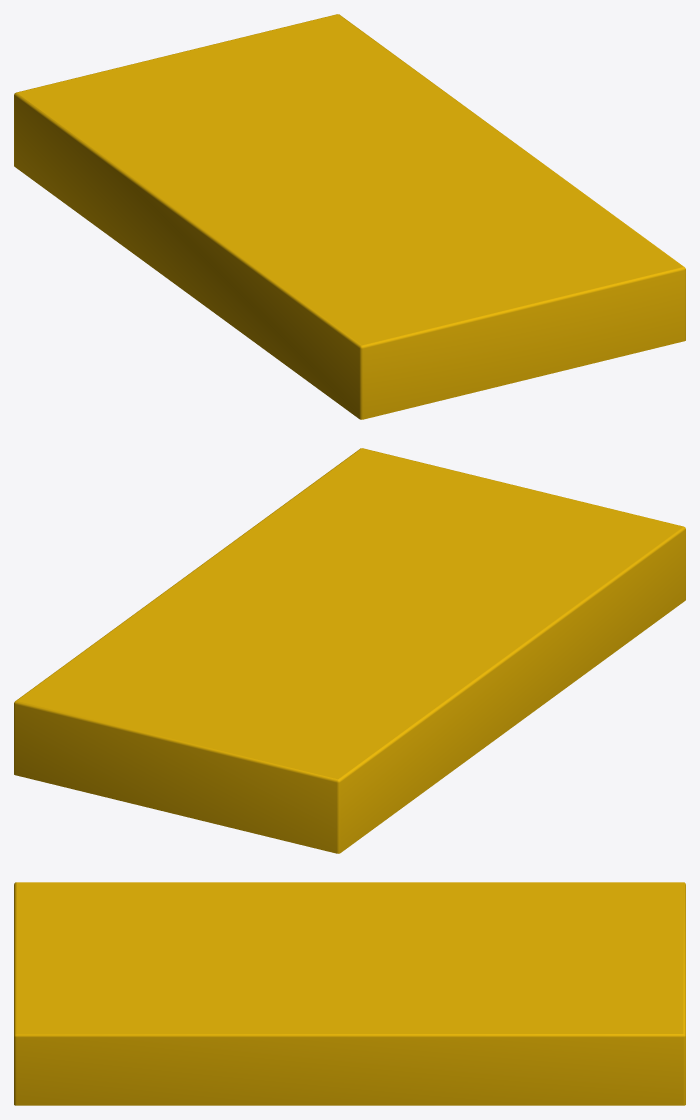
Rendered from table.glb.
3 views of the same model, one above another, from view 1: azimuth 30°, elevation 25°; view 2: azimuth 150°, elevation 25°; view 3: azimuth 270°, elevation 25° (orthographic). The views are drawn at different scales.
Visible parts, largest first — view 1: Plane001.002, Plane001.001; view 2: Plane001.002, Plane001.001; view 3: Plane001.002, Plane001.001.
Boxes of the visible parts, <box> form: Plane001.002: <box>17,14,682,345</box>; Plane001.001: <box>14,14,685,419</box>; Plane001.002: <box>17,448,682,779</box>; Plane001.001: <box>14,448,685,853</box>; Plane001.002: <box>16,882,683,1033</box>; Plane001.001: <box>14,882,685,1105</box>.
Bounding box in the file's own units: 13.05 × 2.8 × 24.1.
